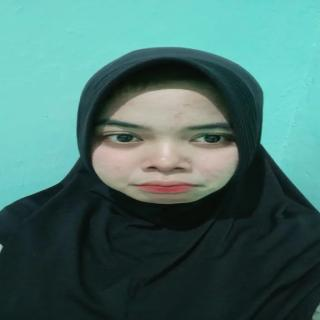Sedih: (84, 76, 257, 209)
